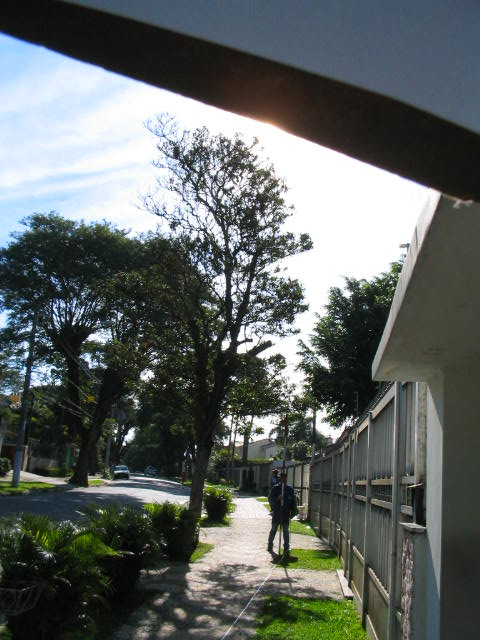crown: (142, 116, 316, 405), (4, 212, 191, 395)
stem: (167, 429, 227, 557), (60, 430, 106, 486)
stick: (267, 418, 296, 563)
tree: (139, 113, 319, 557), (1, 209, 191, 486)
